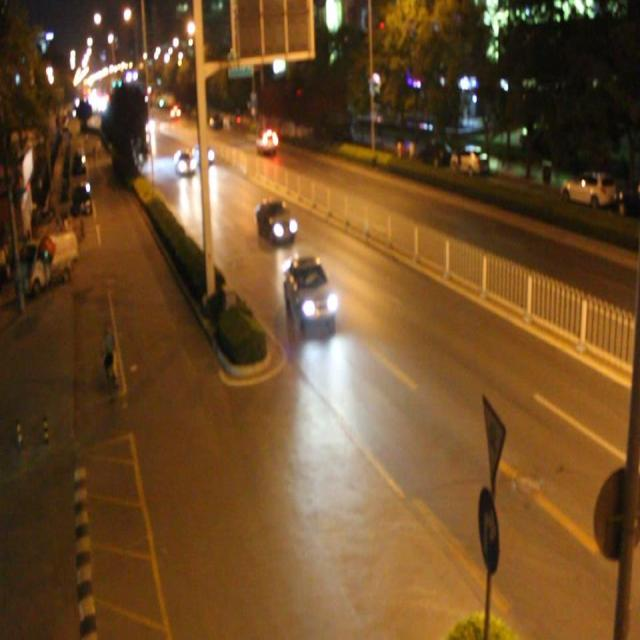car: (282, 253, 337, 331), (254, 196, 296, 244), (255, 126, 278, 155), (173, 149, 196, 177), (192, 142, 212, 165)
